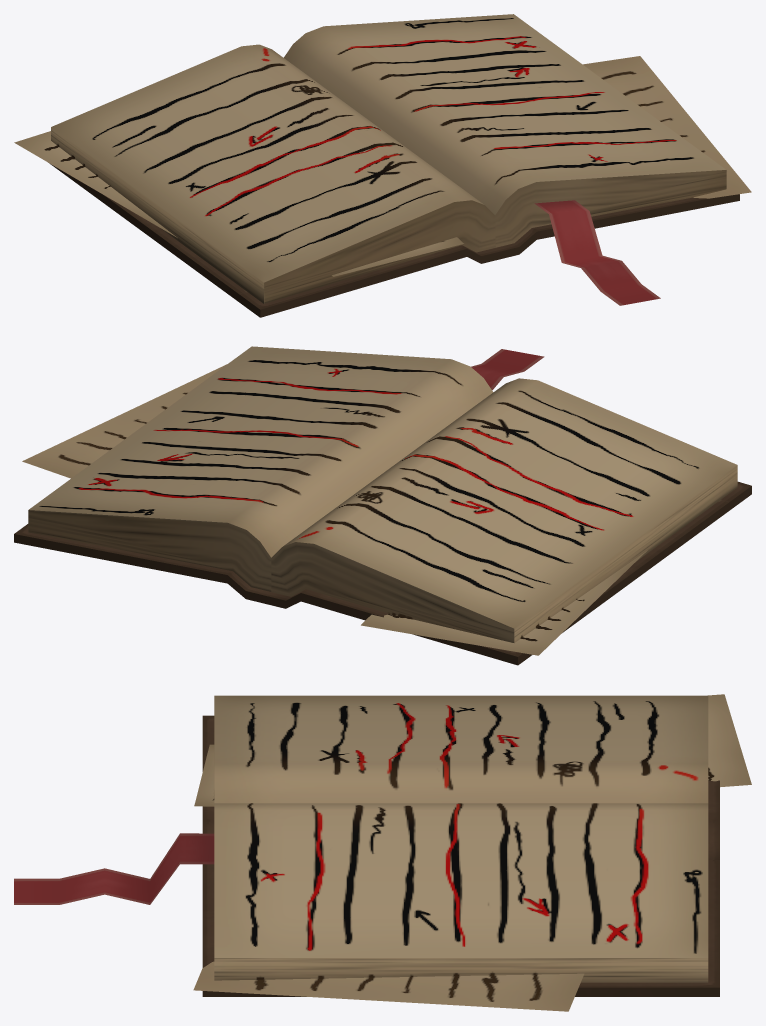
File: SM_Book_00.fbx
3 renders of one model, top to bottom at view 1: azimuth 30°, elevation 25°; view 2: azimuth 150°, elevation 25°; view 3: azimuth 270°, elevation 25°, orthographic. The views are drawn at different scales.
Parts seen in each view (by area): view 1: Book02_low3; view 2: Book02_low3; view 3: Book02_low3.
Part boxes in pixels (left/top/right/bottom): Book02_low3: left=14, top=14, right=751, bottom=317; Book02_low3: left=14, top=346, right=751, bottom=665; Book02_low3: left=14, top=694, right=751, bottom=1011.
Bounding box in the file's own units: 91.18 × 9.92 × 89.76.
Materials: 1 (1 with a texture image).
